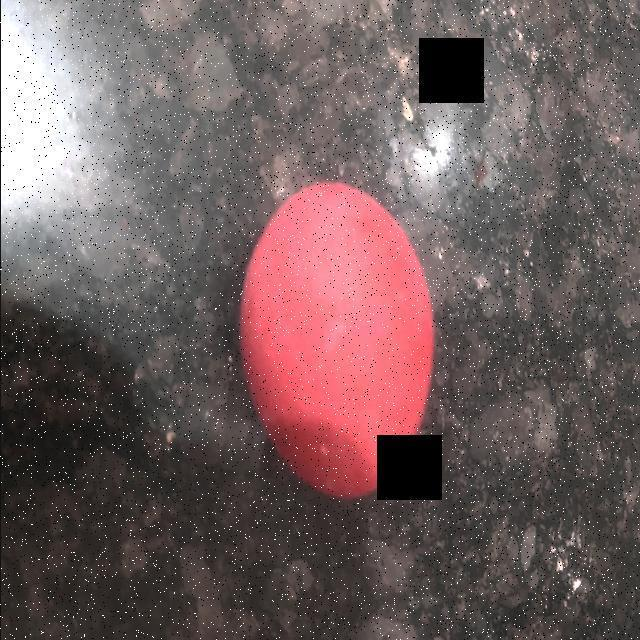egg: (235, 169, 442, 507)
